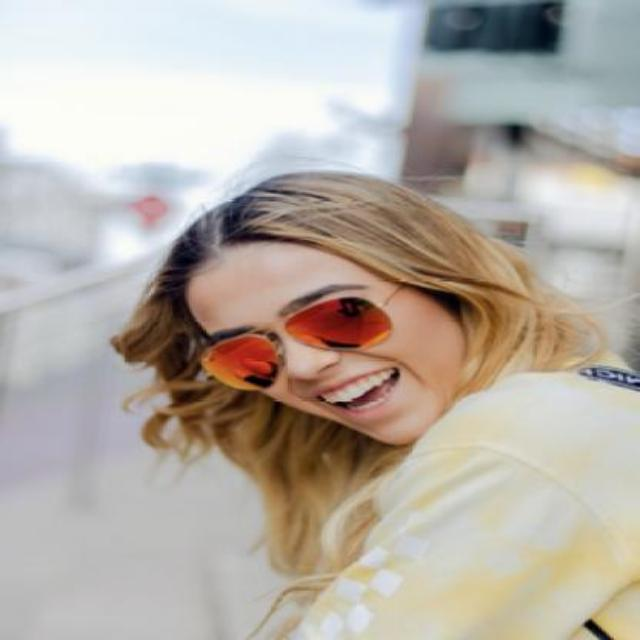glasses: (199, 282, 395, 388)
